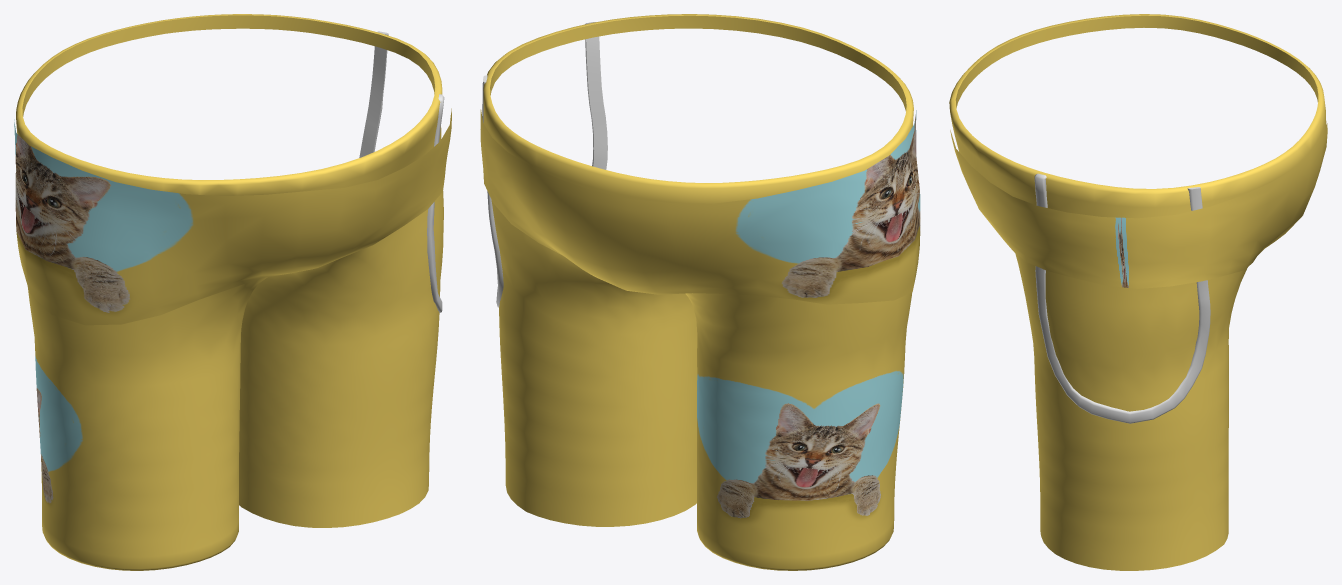
File: minji_pants.gltf
3 renders of one model, left to right at view 1: azimuth 30°, elevation 25°; view 2: azimuth 150°, elevation 25°; view 3: azimuth 270°, elevation 25°, orthographic. The views are drawn at different scales.
Visible parts, largest first — view 1: minji_pants-Mat.1 (×2), minji_pants; view 2: minji_pants-Mat.1 (×2), minji_pants; view 3: minji_pants-Mat.1 (×2), minji_pants.
Boxes of the visible parts, x1,y1,x2,y2 form: minji_pants-Mat.1 (×2): [14, 14, 451, 570]; minji_pants: [359, 31, 444, 312]; minji_pants-Mat.1 (×2): [480, 14, 920, 570]; minji_pants: [482, 22, 607, 307]; minji_pants-Mat.1 (×2): [949, 14, 1327, 570]; minji_pants: [1034, 173, 1210, 423].
Size of the model in its own units: 220 by 214 by 191.
2 materials, 2 textured.
